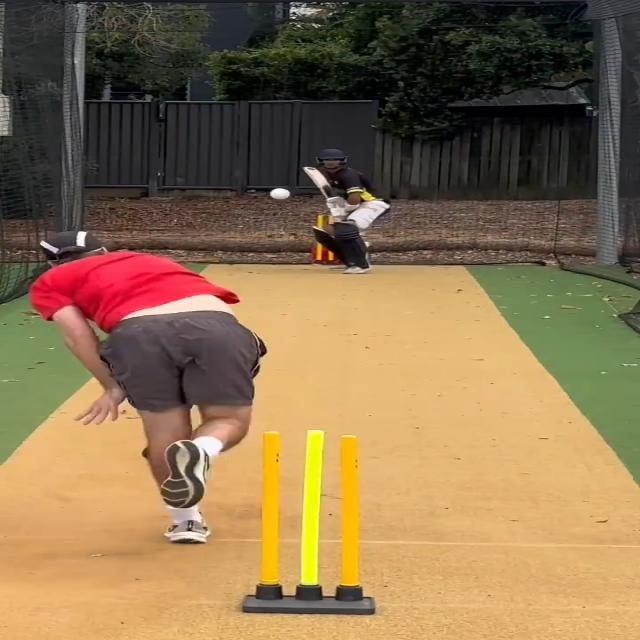ball: (268, 185, 293, 201)
stump: (240, 428, 377, 616)
